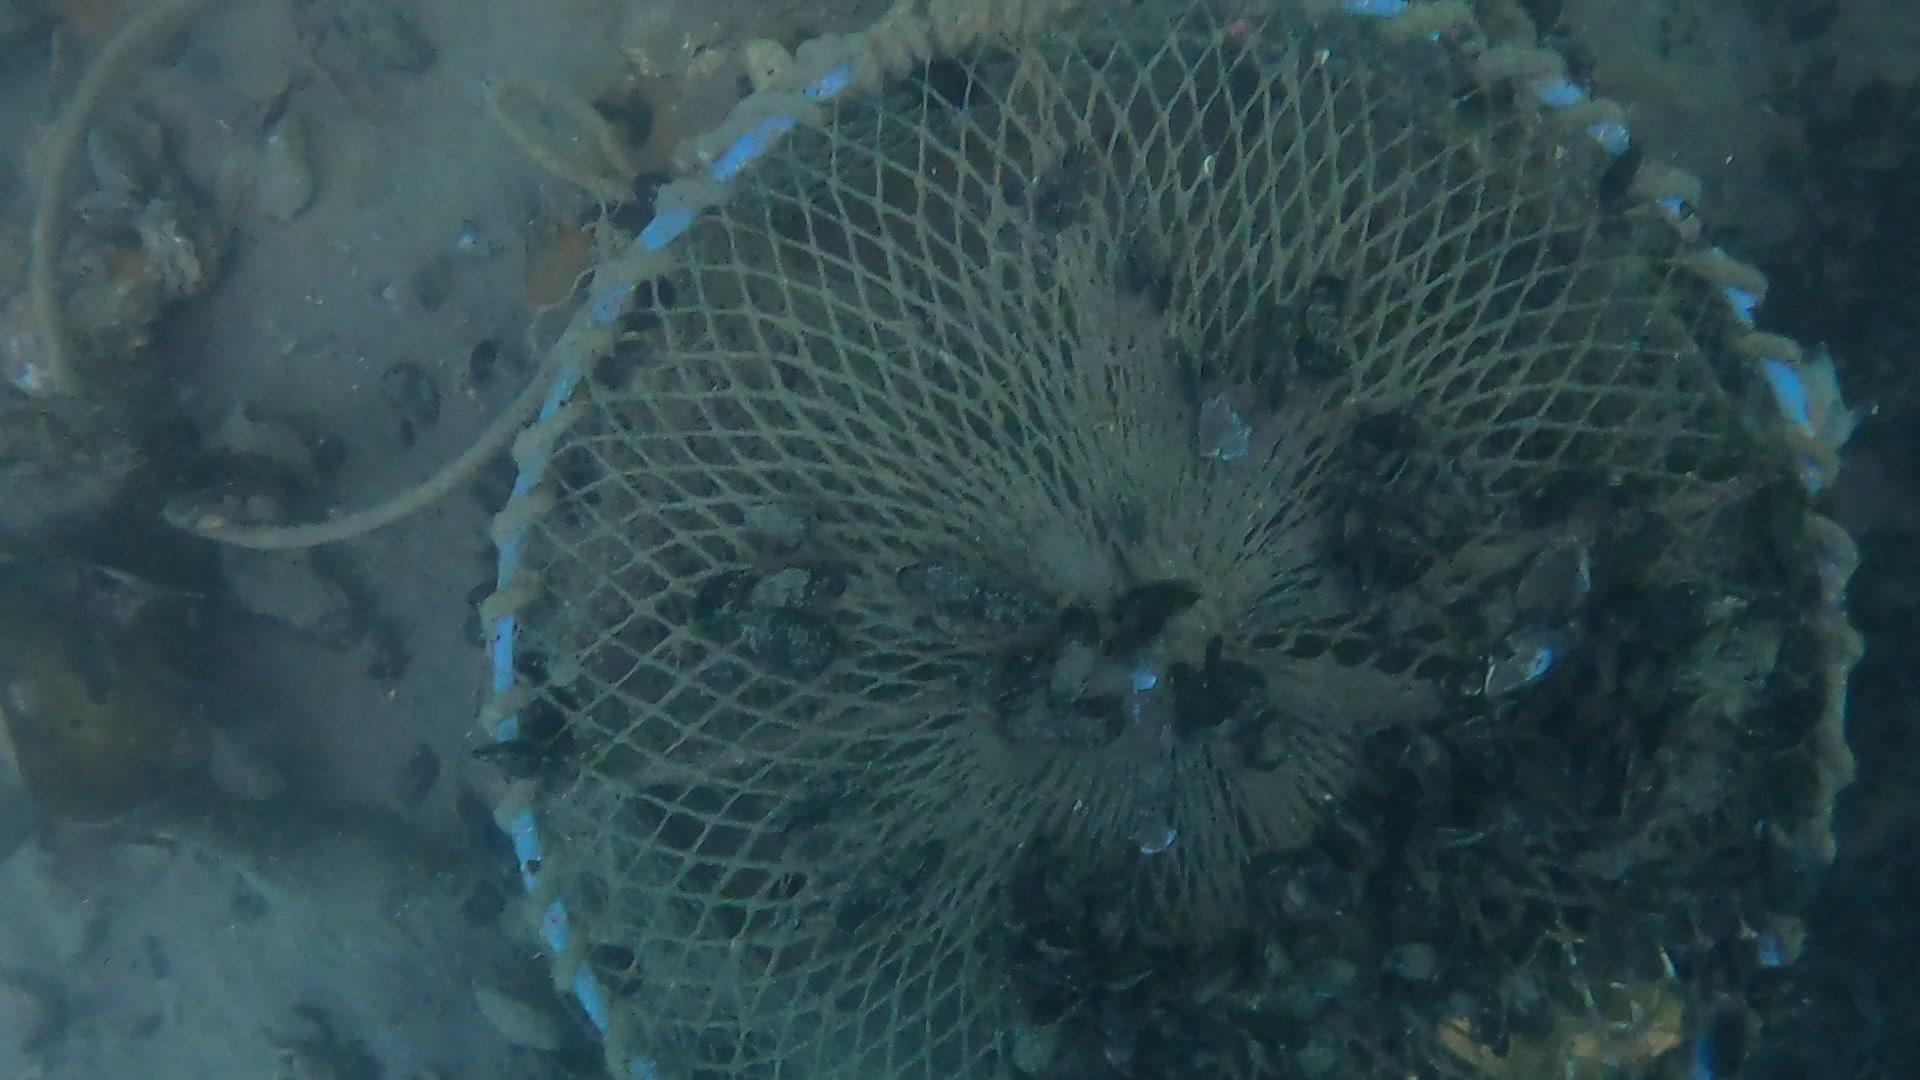circular fish trap: (477, 0, 1869, 1080)
rope: (33, 0, 588, 545), (487, 71, 641, 204)
